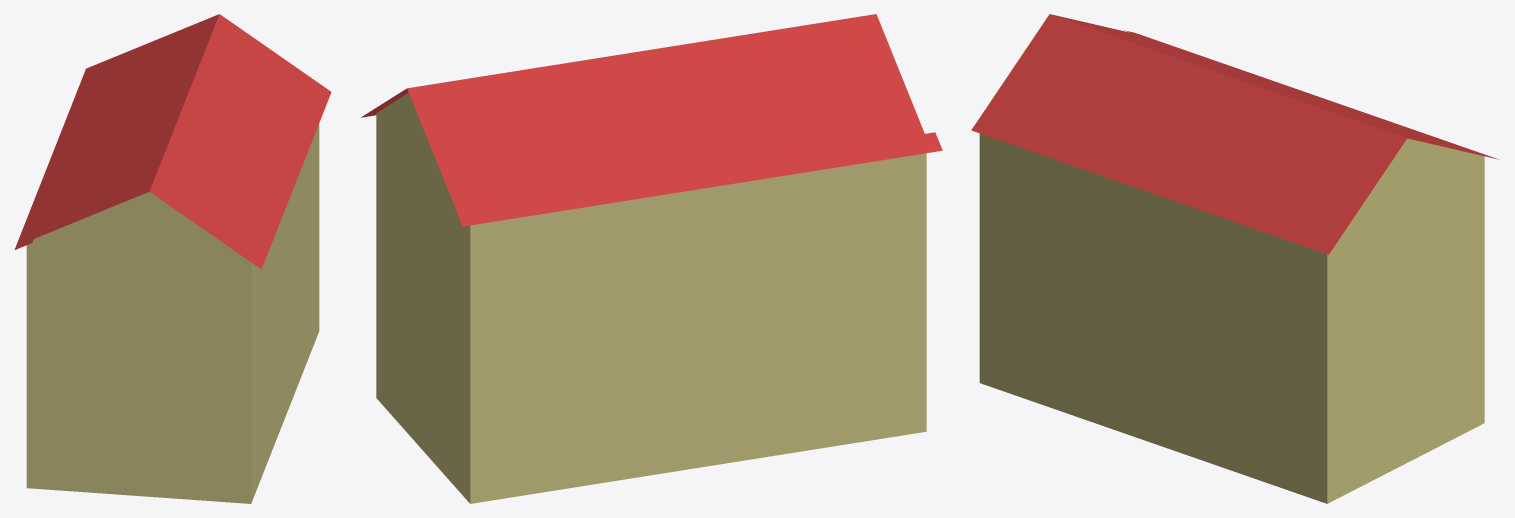
3 renders of one model, left to right at view 1: azimuth 30°, elevation 25°; view 2: azimuth 150°, elevation 25°; view 3: azimuth 270°, elevation 25°, orthographic. The views are drawn at different scales.
Parts seen in each view (by area): view 1: group_5, group_3, group_4; view 2: group_5, group_3, group_4; view 3: group_5, group_3.
Boxes of the visible parts, x1,y1,x2,y2 form: group_5: (26,123,319,503); group_3: (14,14,331,269); group_4: (39,25,326,267); group_5: (376,93,926,503); group_3: (361,14,942,226); group_4: (362,101,886,226); group_5: (979,133,1484,503); group_3: (971,14,1498,254).
Bounding box in the file's own units: 21.98 × 22.83 × 15.8.
